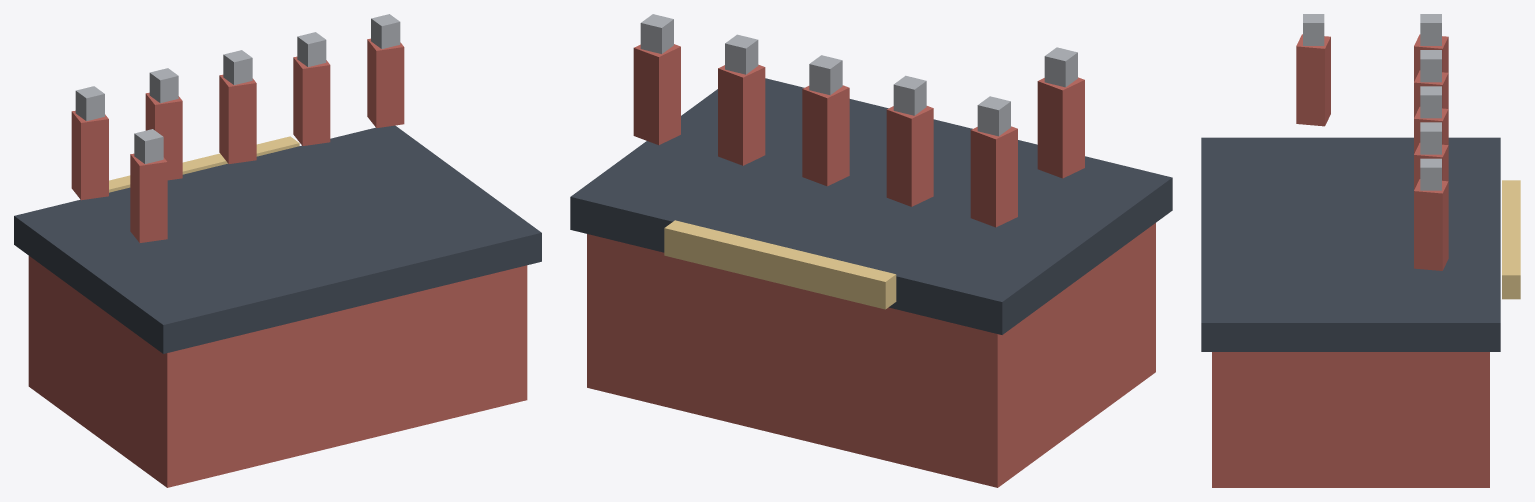
File: loot_ammo_doze.glb
3 renders of one model, left to right at view 1: azimuth 30°, elevation 25°; view 2: azimuth 150°, elevation 25°; view 3: azimuth 270°, elevation 25°, orthographic. The views are drawn at different scales.
Parts seen in each view (by area): view 1: box_lid, ammo_box, round (×6), round_tip (×6), label; view 2: ammo_box, box_lid, round (×6), label, round_tip (×6); view 3: box_lid, ammo_box, round (×6), round_tip (×6), label.
Part boxes in pixels (x1=…): box_lid: x1=14, y1=125, x2=541, y2=353; ammo_box: x1=28, y1=256, x2=527, y2=487; round (×6): x1=71, y1=38, x2=404, y2=242; round_tip (×6): x1=75, y1=14, x2=400, y2=163; label: x1=109, y1=136, x2=299, y2=192; ammo_box: x1=587, y1=223, x2=1155, y2=487; box_lid: x1=570, y1=78, x2=1172, y2=334; round (×6): x1=633, y1=44, x2=1084, y2=227; label: x1=664, y1=220, x2=896, y2=309; round_tip (×6): x1=640, y1=14, x2=1077, y2=136; box_lid: x1=1201, y1=137, x2=1500, y2=351; ammo_box: x1=1212, y1=352, x2=1489, y2=487; round (×6): x1=1296, y1=34, x2=1448, y2=270; round_tip (×6): x1=1303, y1=14, x2=1441, y2=190; label: x1=1502, y1=180, x2=1520, y2=299.
Bounding box in the file's own units: 0.82 × 0.6375 × 0.5975.
